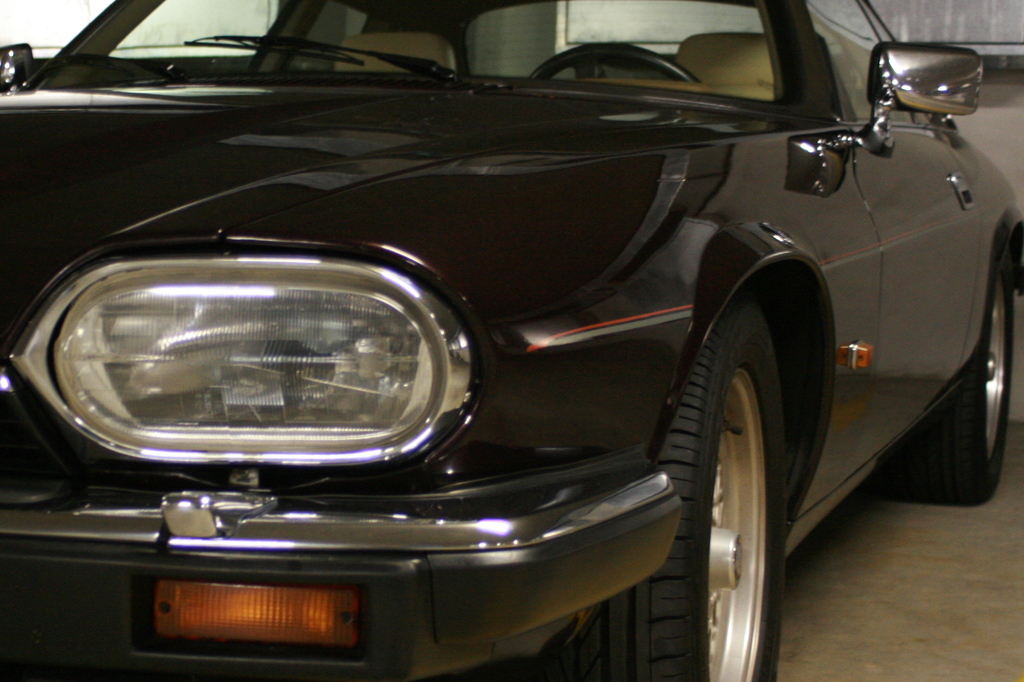Car: (0, 20, 995, 682)
